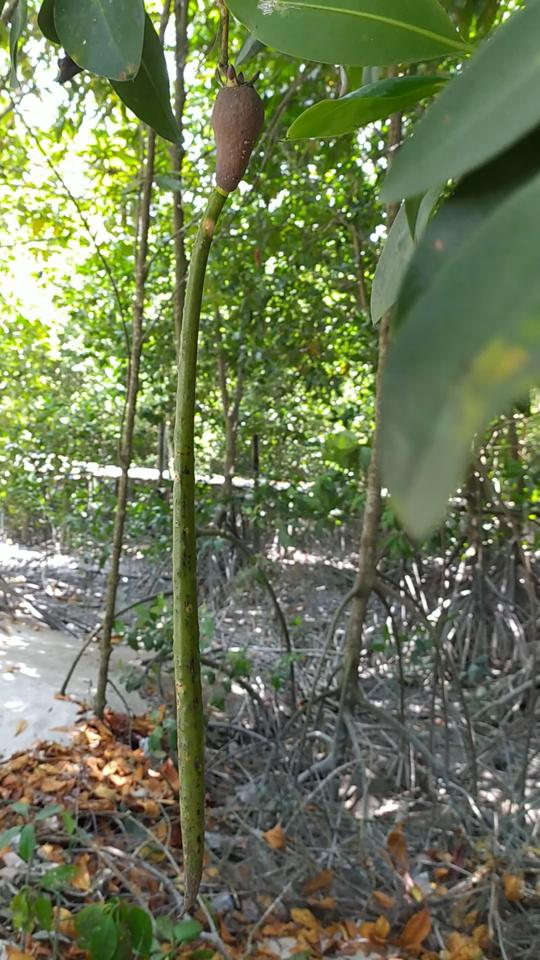setengah matang: (156, 60, 280, 915)
